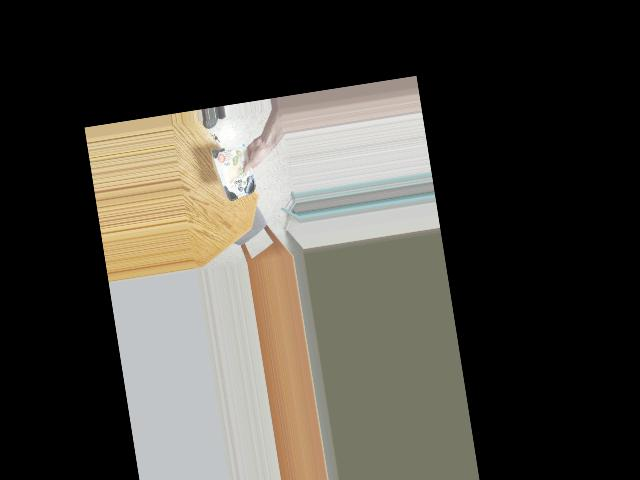cheese: (213, 149, 263, 198)
